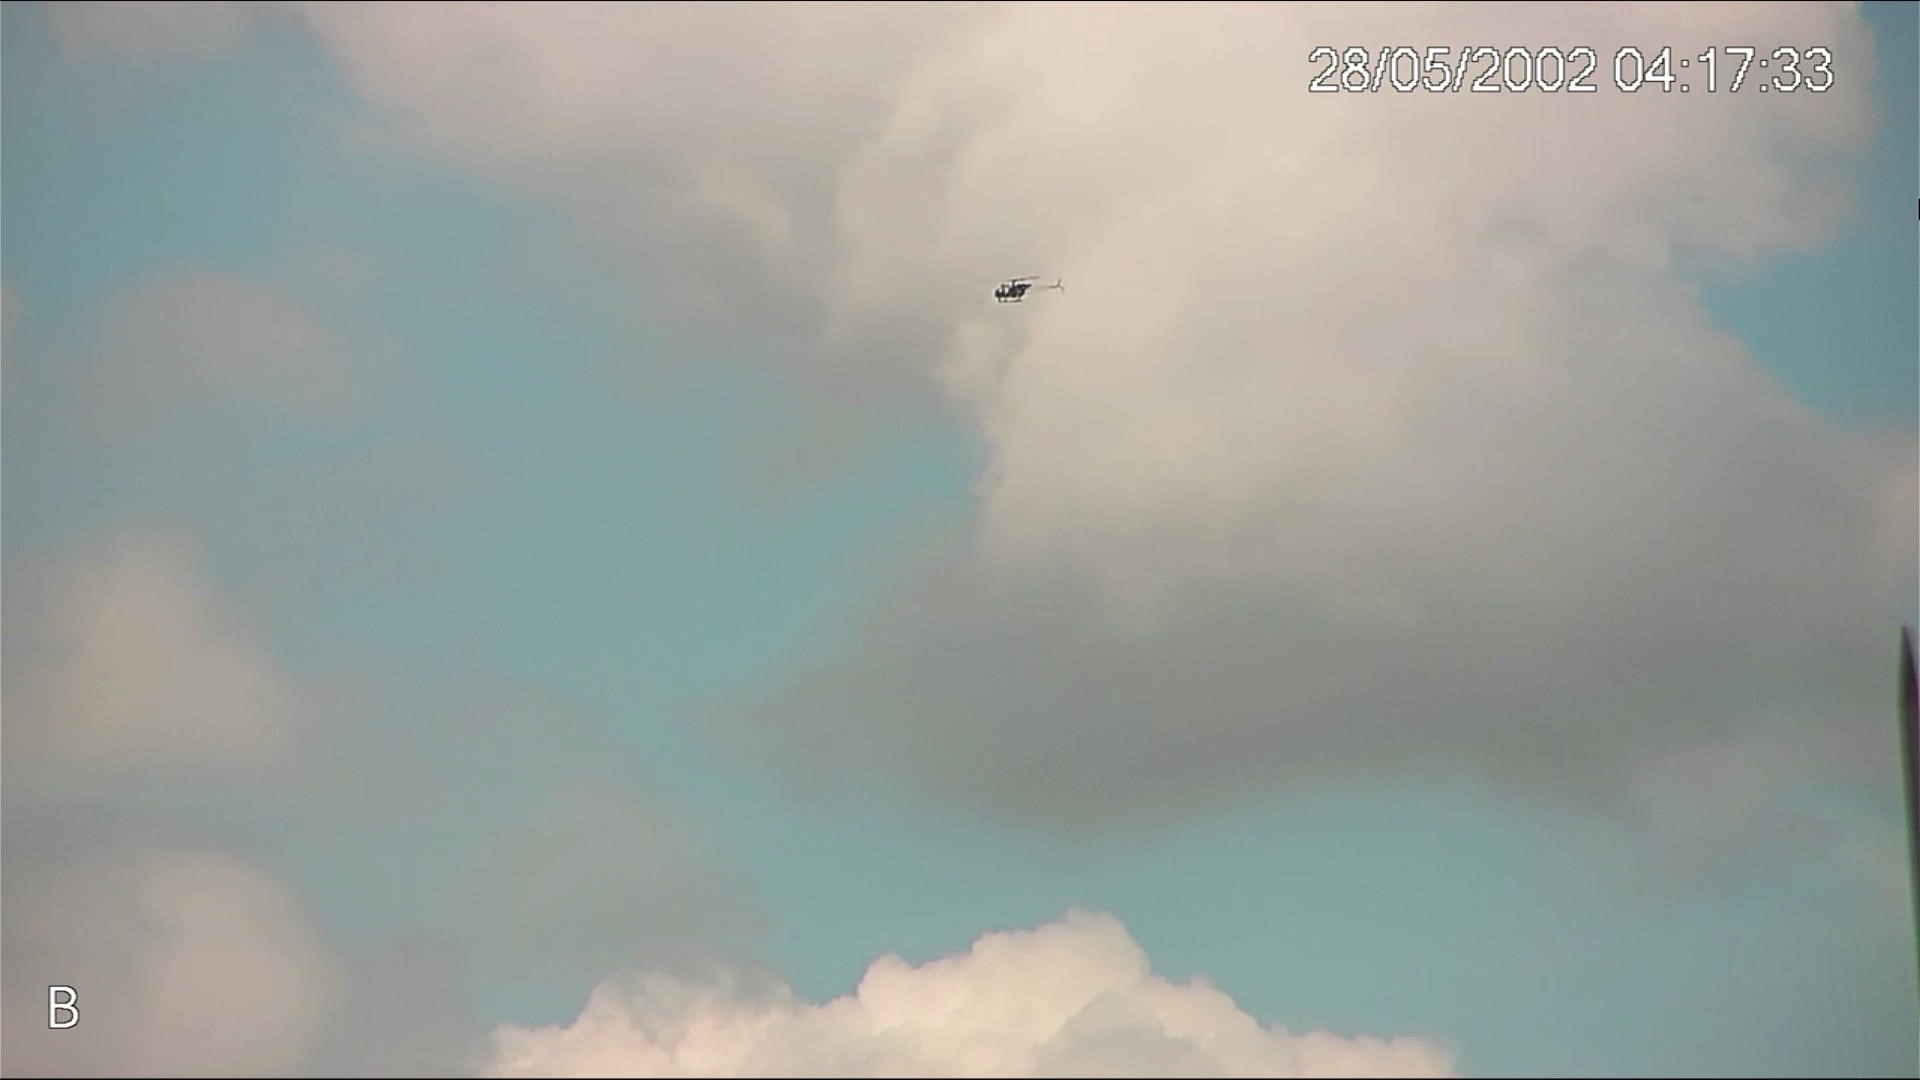SU_30: (989, 273, 1065, 306)
